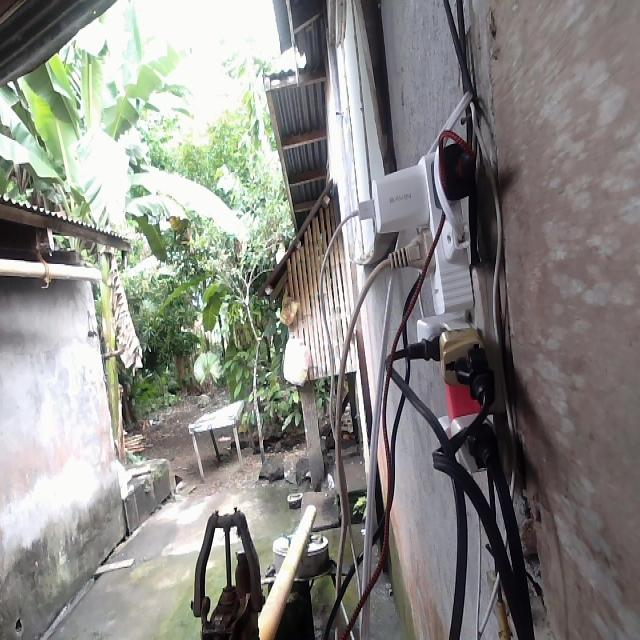-: (355, 132, 506, 473)
